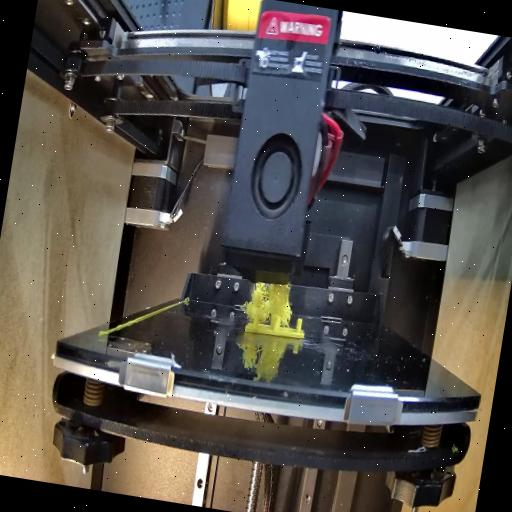spaghetti: (240, 276, 295, 327)
